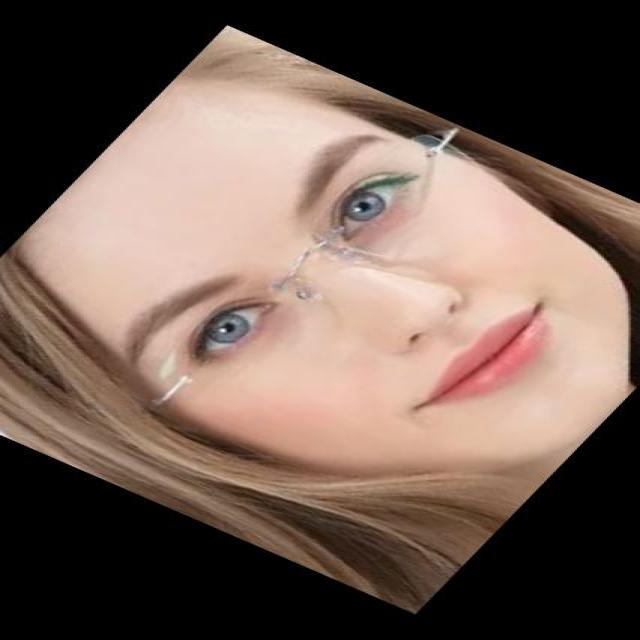glasses: (127, 105, 510, 438)
